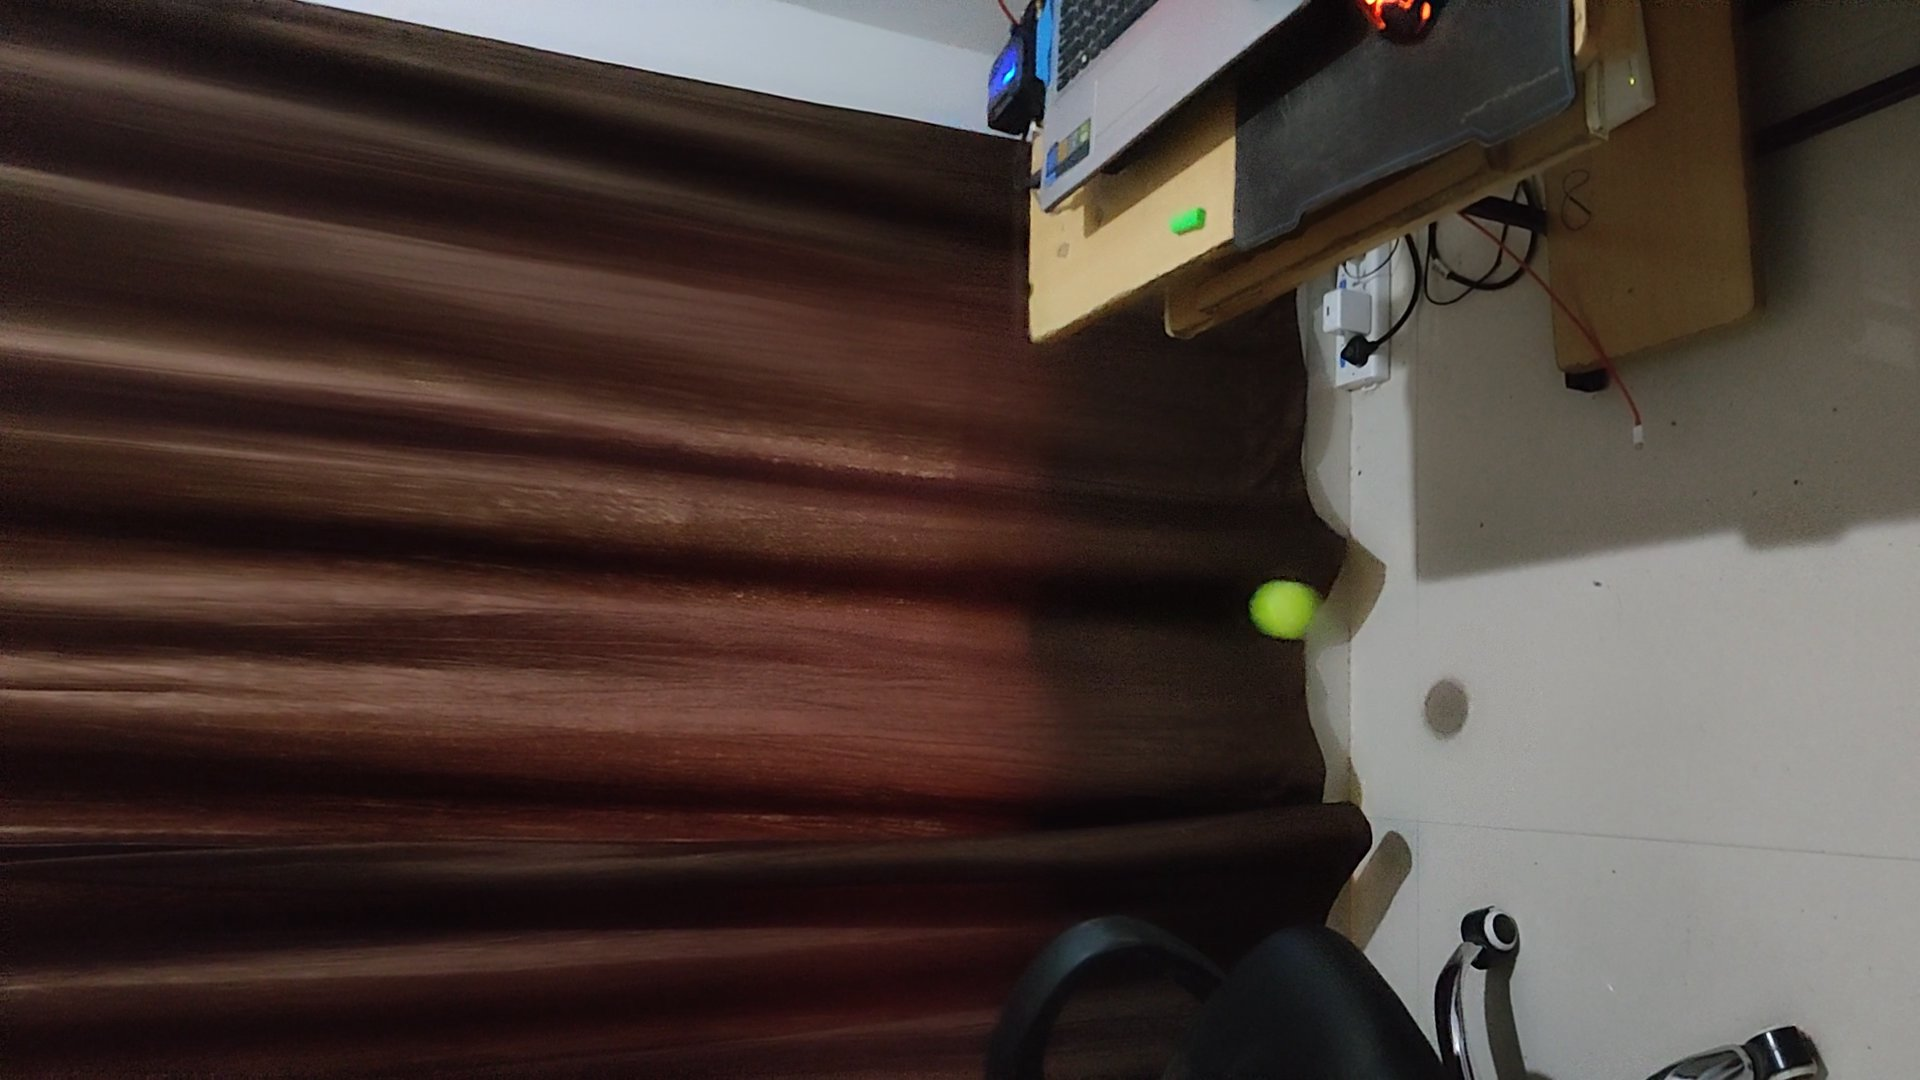Tennis-Ball: (1249, 580, 1321, 640)
